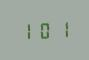one: (18, 21, 34, 40), (53, 19, 69, 38)
zero: (36, 20, 52, 39)
